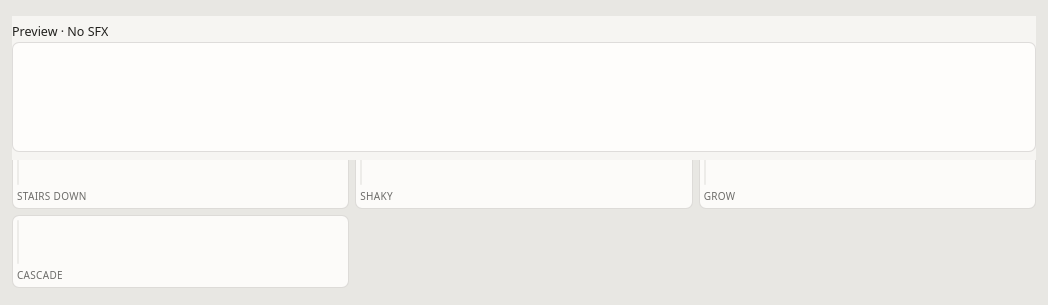
under the Rust engine › Remove SFX switches it off, puts the box back as it was, tells the Inspector, and goes away
Two presets in a row: what comes back is the box, not the first preset.
Click the radio button labelled "Shaky" at (377, 196), box [355,136,693,209]
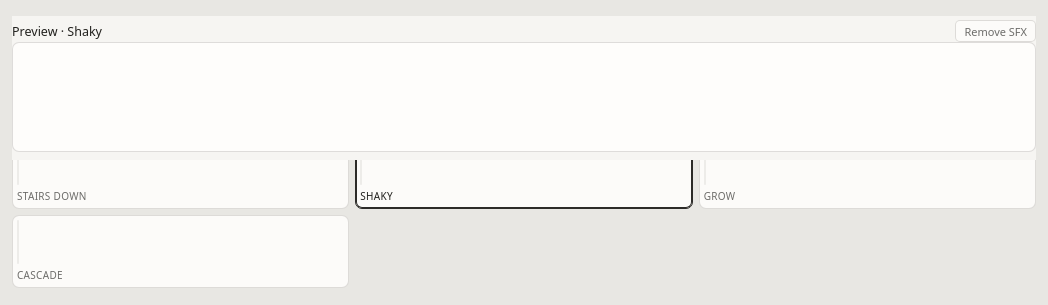
Click the radio button labelled "Cascade" at (40, 275), box [12,215,349,288]
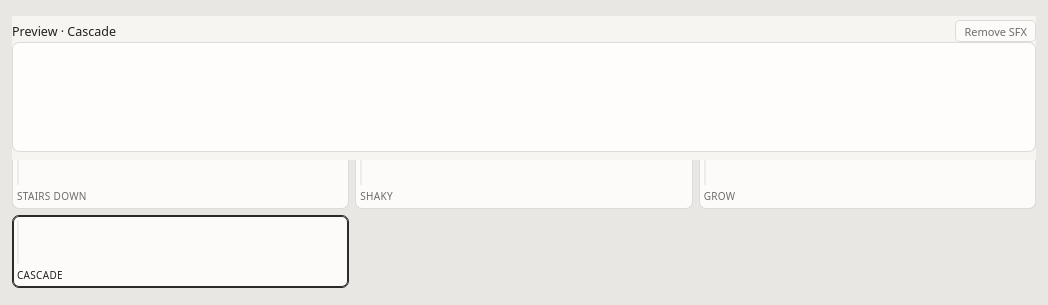
Click the button "Remove SFX" at (996, 31), box [955,20,1036,42]
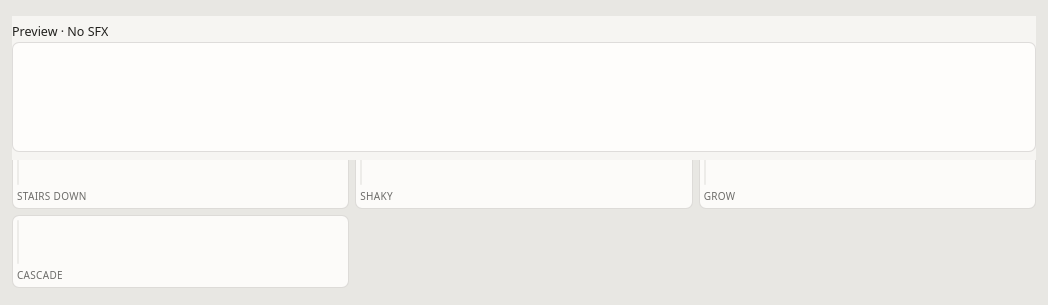
Now the button "Remove SFX" is gone
Now the text "Preview · No SFX" is shown, box [12,22,108,40]
